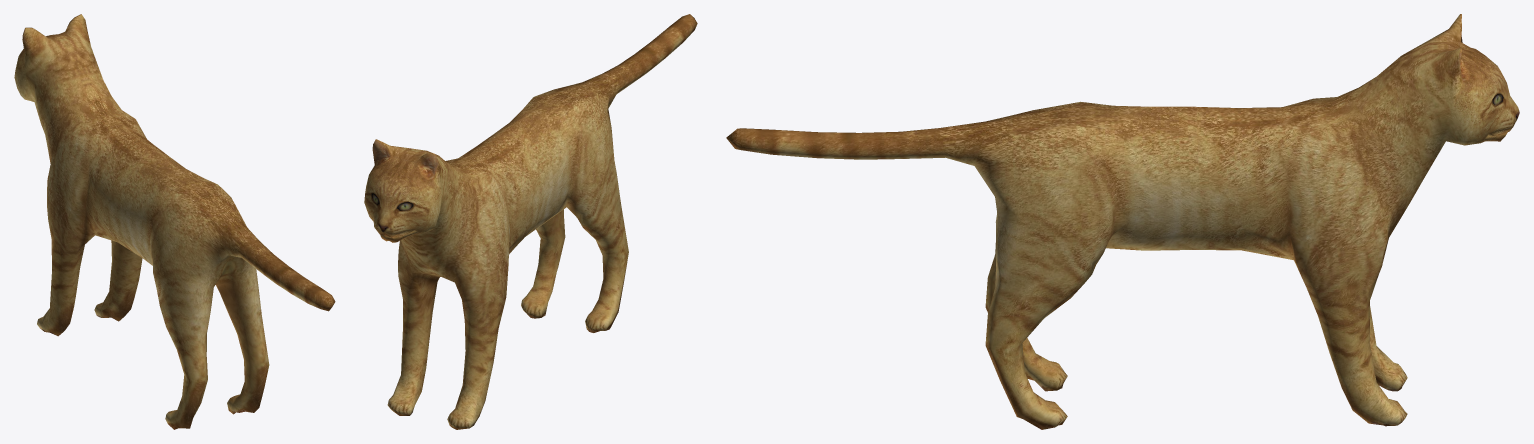
Rendered from cat.obj.
3 views of the same model, side by side, from view 1: azimuth 30°, elevation 25°; view 2: azimuth 150°, elevation 25°; view 3: azimuth 270°, elevation 25° (orthographic). The views are drawn at different scales.
Parts seen in each view (by area): view 1: Mesh1 polygons01_1 skpE5B1_1 CAT_standing1 Model; view 2: Mesh1 polygons01_1 skpE5B1_1 CAT_standing1 Model; view 3: Mesh1 polygons01_1 skpE5B1_1 CAT_standing1 Model.
Boxes of the visible parts, x1,y1,x2,y2 form: Mesh1 polygons01_1 skpE5B1_1 CAT_standing1 Model: [14, 14, 335, 429]; Mesh1 polygons01_1 skpE5B1_1 CAT_standing1 Model: [364, 14, 697, 429]; Mesh1 polygons01_1 skpE5B1_1 CAT_standing1 Model: [726, 14, 1519, 429].
Bounding box in the file's own units: 4.48 × 13.48 × 25.95.
1 material, 1 textured.
